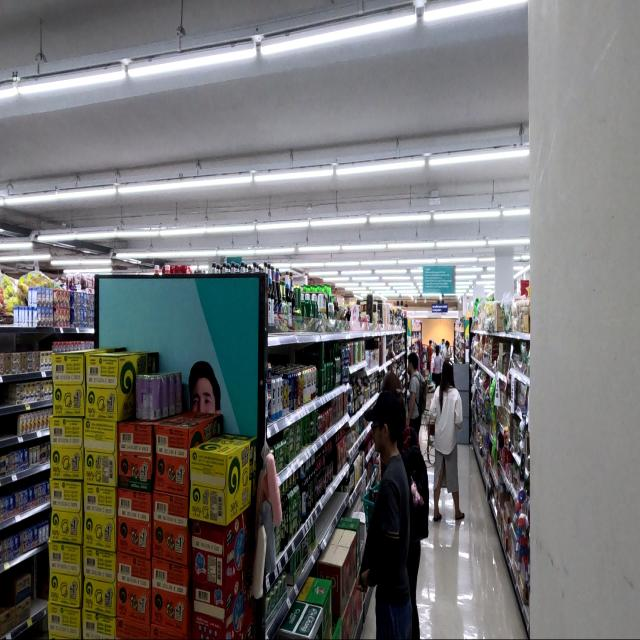shoplifting: (360, 393, 415, 640)
